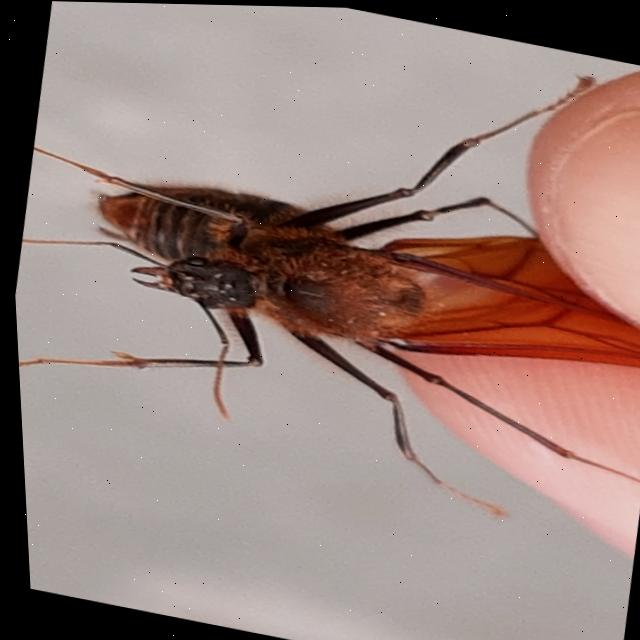Alive-Male-Alate: (0, 0, 640, 543)
